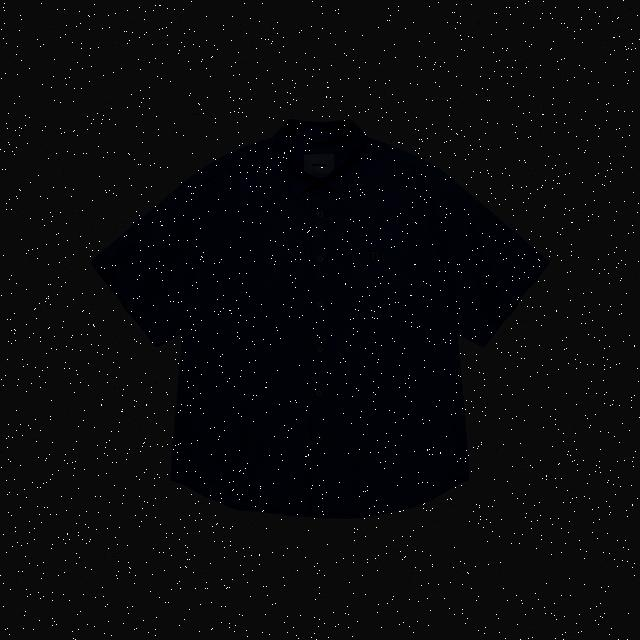Blouse_deep: (92, 128, 530, 511)
